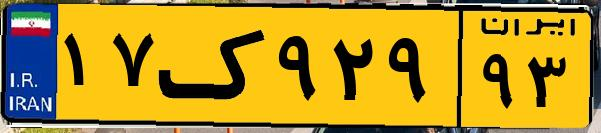1: (57, 26, 110, 100)
2: (330, 28, 385, 110)
3: (525, 38, 570, 115)
7: (110, 28, 158, 98)
9: (270, 28, 330, 110), (385, 28, 445, 110), (475, 38, 525, 113)
ک: (158, 12, 270, 120)
